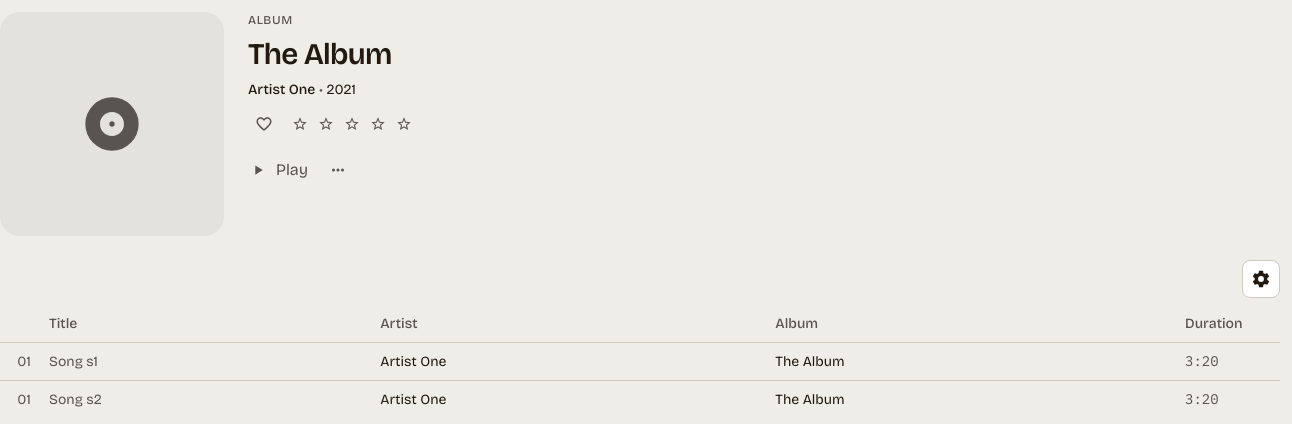
Test: Album detail header delete (admin) › omits Delete from the header context menu for non-admins
Expected: the text "The Album" is shown, [248,36,392,72]
Right-click the heading "The Album" at (332, 54), box [248,36,416,72]
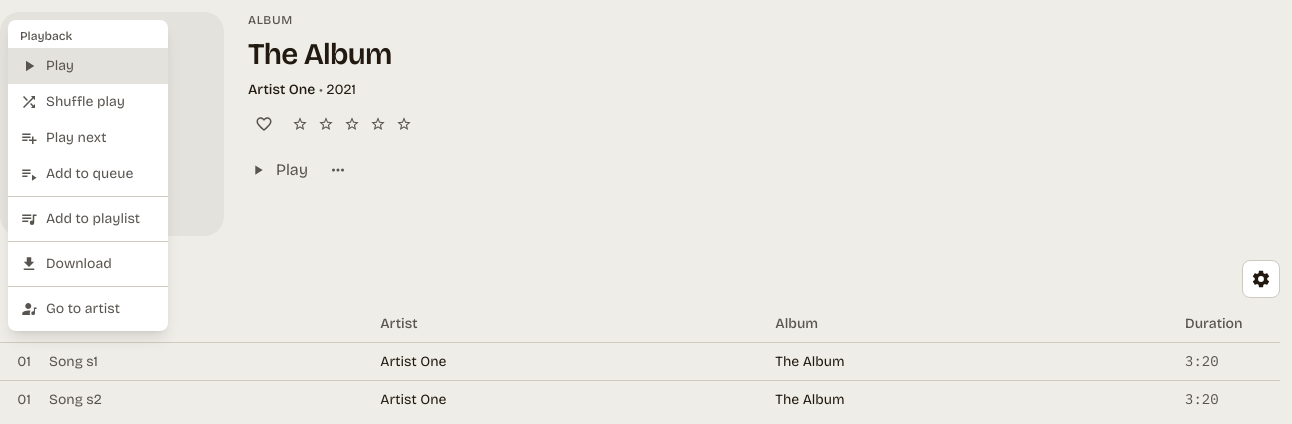
Expected: the menu item "Play" is shown, [8,48,168,84]
